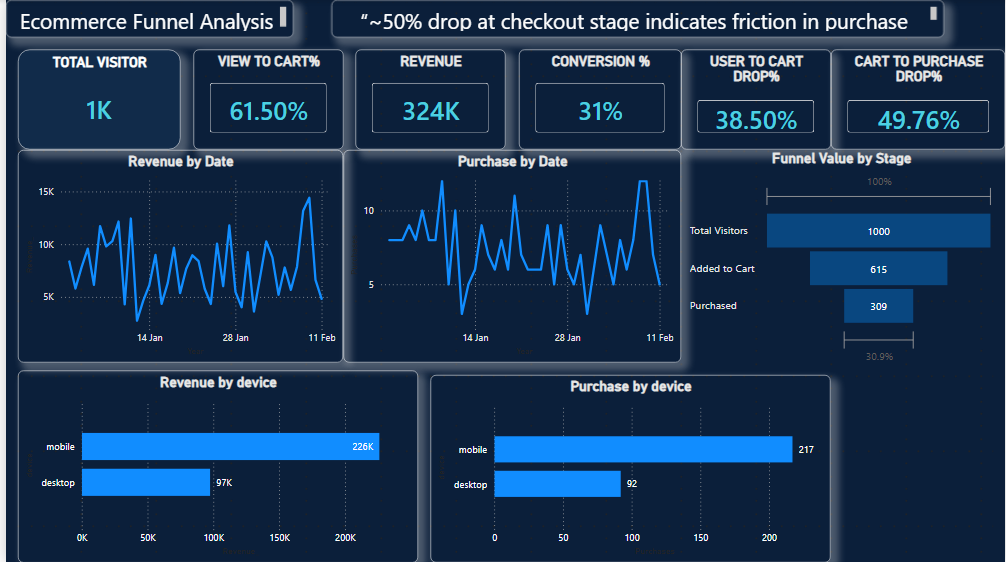

What the dashboard file says about the page in this screenshot:
{"tool":"powerbi","page":{"name":"Page 1","canvas":[1280,720],"ordinal":0},"visuals":[{"type":"cardVisual","title":"TOTAL VISITOR","fields":{"Data":["ecommerce_data.Total Visitors"]},"box":[16,64,208,128],"z":0},{"type":"cardVisual","title":"VIEW TO CART%","fields":{"Data":["ecommerce_data.View to Cart %"]},"box":[240,64,192,128],"z":1000},{"type":"cardVisual","title":"REVENUE","fields":{"Data":["ecommerce_data.Revenue_"]},"box":[448,64,192,128],"z":2000},{"type":"cardVisual","title":"CONVERSION %","fields":{"Data":["ecommerce_data.Overall Conversion %"]},"box":[656,64,208,128],"z":3000},{"type":"cardVisual","title":"USER TO CART DROP%","fields":{"Data":["ecommerce_data.Drop Off %"]},"box":[864,64,192,128],"z":4000},{"type":"lineChart","title":"Revenue by Date","fields":{"Y":["ecommerce_data.Revenue_"],"Category":["ecommerce_data.visit_date.Variation.Date Hierarchy.Year","ecommerce_data.visit_date.Variation.Date Hierarchy.Quarter","ecommerce_data.visit_date.Variation.Date Hierarchy.Month","ecommerce_data.visit_date.Variation.Date Hierarchy.Day"]},"box":[16,192,416,272],"z":5000},{"type":"lineChart","title":"Purchase by Date","fields":{"Y":["ecommerce_data.Purchases"],"Category":["ecommerce_data.visit_date.Variation.Date Hierarchy.Year","ecommerce_data.visit_date.Variation.Date Hierarchy.Quarter","ecommerce_data.visit_date.Variation.Date Hierarchy.Month","ecommerce_data.visit_date.Variation.Date Hierarchy.Day"]},"box":[432,192,432,272],"z":6000},{"type":"barChart","title":"Revenue by device","fields":{"Category":["ecommerce_data.device"],"Y":["ecommerce_data.Revenue_"]},"box":[16,474,512,246],"z":7000},{"type":"barChart","title":"Purchase by device","fields":{"Category":["ecommerce_data.device"],"Y":["ecommerce_data.Purchases"]},"box":[544,480,512,240],"z":8000},{"type":"textbox","box":[0,0,368,48],"z":9000},{"type":"funnel","fields":{"Y":["Stages.Funnel Value"],"Category":["Stages.Stage"]},"box":[869,192,400,280],"z":10000},{"type":"cardVisual","title":"CART TO PURCHASE DROP%","fields":{"Data":["ecommerce_data.Cart to Purchase Drop"]},"box":[1056,64,224,128],"z":11000},{"type":"textbox","box":[416,0,784,48],"z":12000}]}

Visuals, with their boxes in screenshot pixels (x1, y1, x2, y2), scaled from the page's 1280x720 canvas onto the 1006x562 screenshot:
"TOTAL VISITOR" cardVisual: <bbox>13, 50, 176, 150</bbox>
"VIEW TO CART%" cardVisual: <bbox>189, 50, 340, 150</bbox>
"REVENUE" cardVisual: <bbox>352, 50, 503, 150</bbox>
"CONVERSION %" cardVisual: <bbox>516, 50, 679, 150</bbox>
"USER TO CART DROP%" cardVisual: <bbox>679, 50, 830, 150</bbox>
"Revenue by Date" lineChart: <bbox>13, 150, 340, 362</bbox>
"Purchase by Date" lineChart: <bbox>340, 150, 679, 362</bbox>
"Revenue by device" barChart: <bbox>13, 370, 415, 561</bbox>
"Purchase by device" barChart: <bbox>428, 375, 830, 561</bbox>
textbox: <bbox>0, 0, 289, 37</bbox>
funnel - Stages.Funnel Value x Stages.Stage: <bbox>683, 150, 997, 368</bbox>
"CART TO PURCHASE DROP%" cardVisual: <bbox>830, 50, 1005, 150</bbox>
textbox: <bbox>327, 0, 943, 37</bbox>
